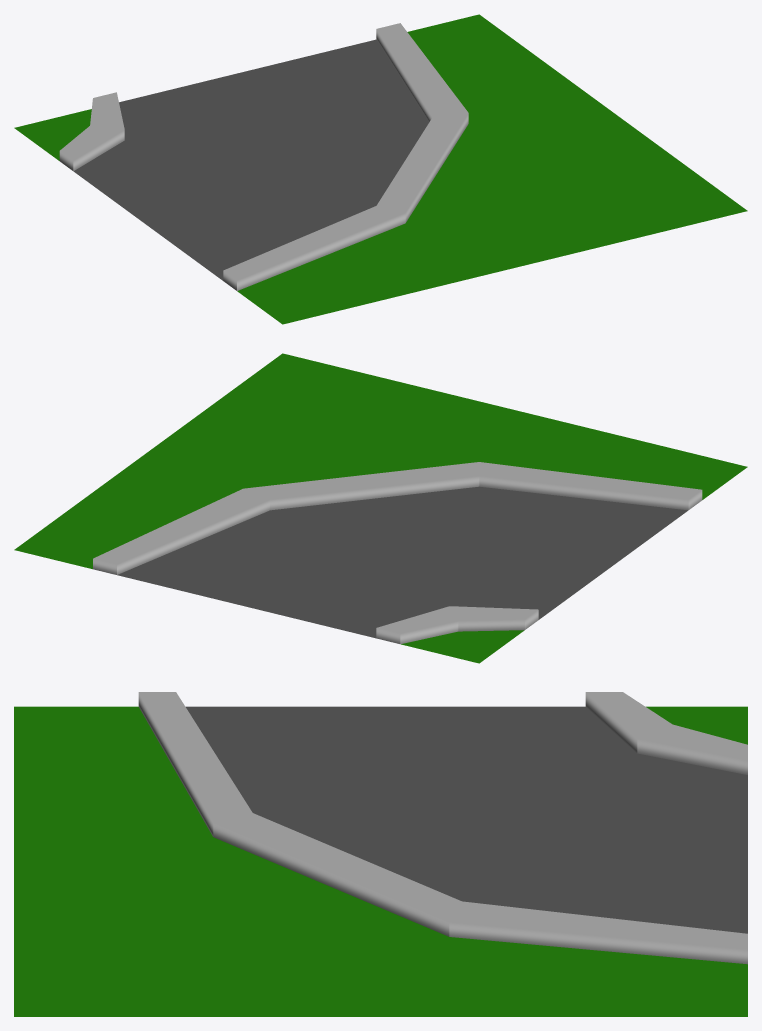
Rendered from ground_pathBend.fbx.
3 views of the same model, one above another, from view 1: azimuth 30°, elevation 25°; view 2: azimuth 150°, elevation 25°; view 3: azimuth 270°, elevation 25° (orthographic). The views are drawn at different scales.
Parts seen in each view (by area): view 1: ground_pathBend; view 2: ground_pathBend; view 3: ground_pathBend.
Part boxes in pixels (bbox=[...]): ground_pathBend: bbox=[14, 14, 747, 324]; ground_pathBend: bbox=[14, 353, 747, 663]; ground_pathBend: bbox=[14, 692, 747, 1016].
Bounding box in the file's own units: 100 × 2.18 × 100.
